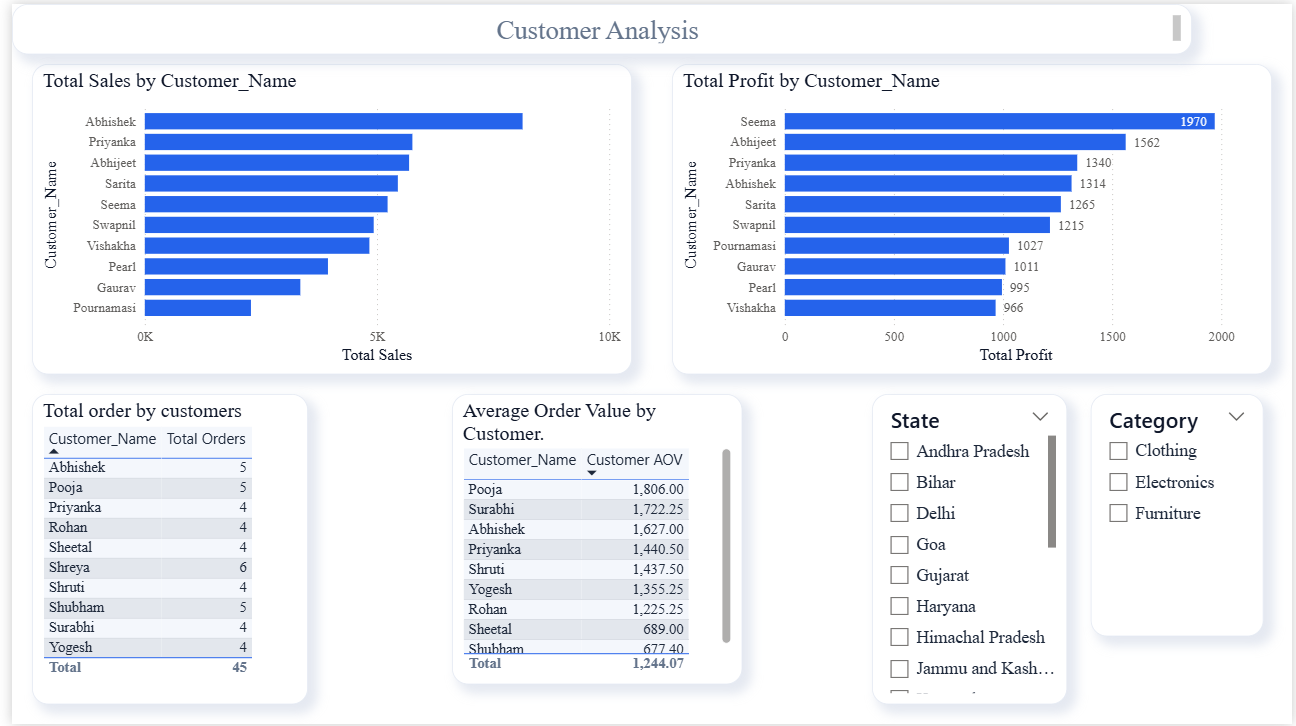

What the dashboard file says about the page in this screenshot:
{"tool":"powerbi","page":{"name":"Customer Analysis ","canvas":[1280,720],"ordinal":2},"visuals":[{"type":"clusteredBarChart","fields":{"Category":["Orders.Customer_Name"],"Y":["Order_Details.Total Profit"]},"box":[660,60,600,310],"z":0},{"type":"clusteredBarChart","fields":{"Category":["Orders.Customer_Name"],"Y":["Order_Details.Total Sales"]},"box":[20,60,600,310],"z":1000},{"type":"tableEx","title":"Total order  by customers","fields":{"Values":["Orders.Customer_Name","Order_Details.Total Orders"]},"box":[20,390,276.2,310],"z":3000},{"type":"slicer","fields":{"Values":["Order_Details.Category"]},"box":[1078.8,390,172.5,242.5],"z":4000},{"type":"slicer","fields":{"Values":["Orders.State"]},"box":[860,390,195,310],"z":5000},{"type":"tableEx","title":"Average Order Value by Customer.","fields":{"Values":["Orders.Customer_Name","Order_Details.Customer AOV"]},"box":[440,390,290,290],"z":6000},{"type":"textbox","box":[0,0,1180,50],"z":7000}]}

Visuals, with their boxes in screenshot pixels (x1, y1, x2, y2), scaled from the page's 1280x720 canvas onto the 1296x726 screenshot:
clusteredBarChart - Orders.Customer_Name x Order_Details.Total Profit: x1=668 y1=60 x2=1276 y2=373
clusteredBarChart - Orders.Customer_Name x Order_Details.Total Sales: x1=20 y1=60 x2=628 y2=373
"Total order  by customers" tableEx: x1=20 y1=393 x2=300 y2=706
slicer - Order_Details.Category: x1=1092 y1=393 x2=1267 y2=638
slicer - Orders.State: x1=871 y1=393 x2=1068 y2=706
"Average Order Value by Customer." tableEx: x1=446 y1=393 x2=739 y2=686
textbox: x1=0 y1=0 x2=1195 y2=50
